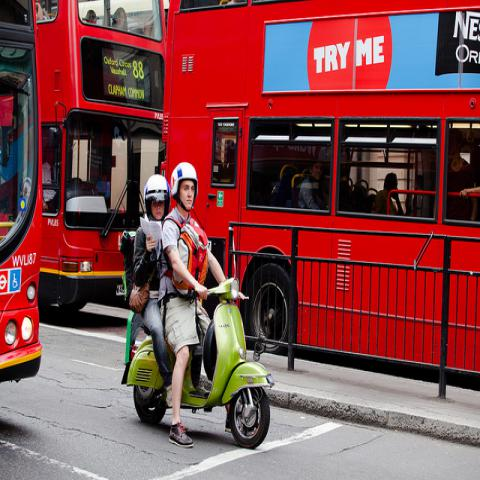bus: (157, 0, 479, 380), (36, 0, 165, 320), (1, 5, 43, 384)
motorcycle: (123, 277, 275, 448)
